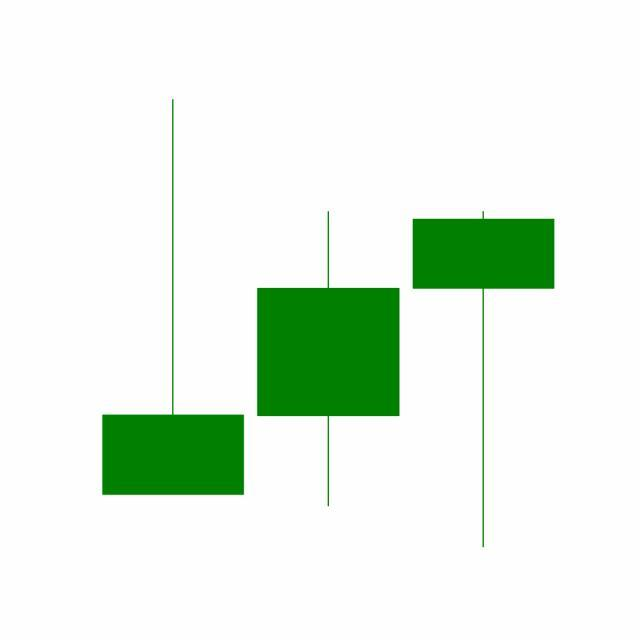Hanging Man: (406, 208, 562, 551)
